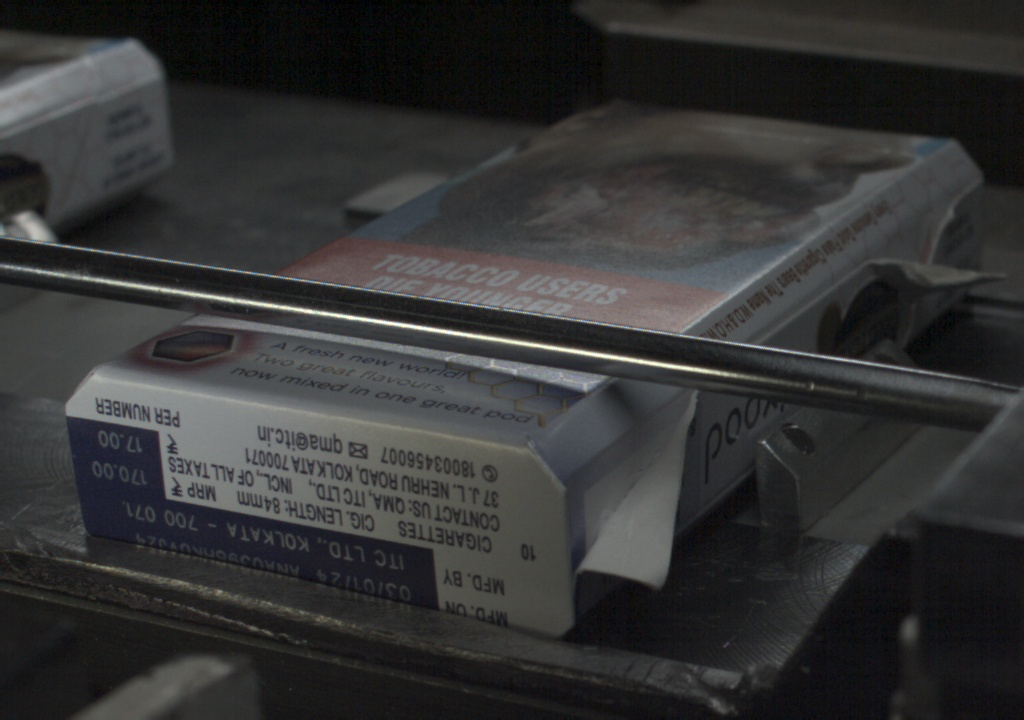g_bottom: (64, 381, 559, 637)
g_label: (76, 497, 438, 608)
g_lmiter: (766, 275, 848, 339)
ng_lmiter: (575, 393, 694, 589), (868, 258, 1001, 311)
ng_miter: (931, 182, 992, 250)
price: (72, 428, 164, 496)
